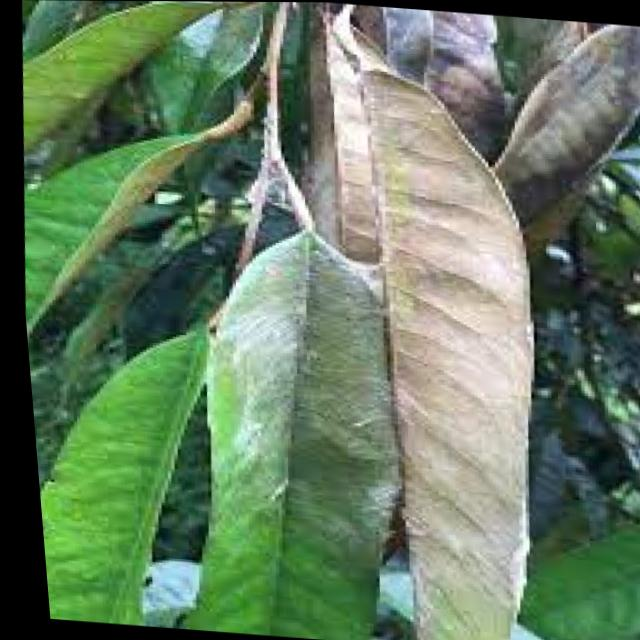Leaf Blight: (308, 70, 604, 640)
